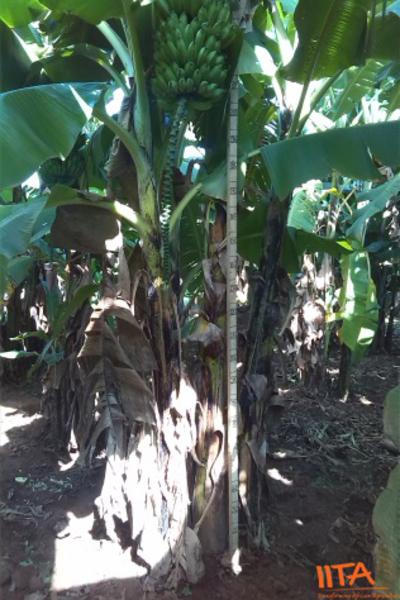bananaHand: (147, 1, 243, 119)
